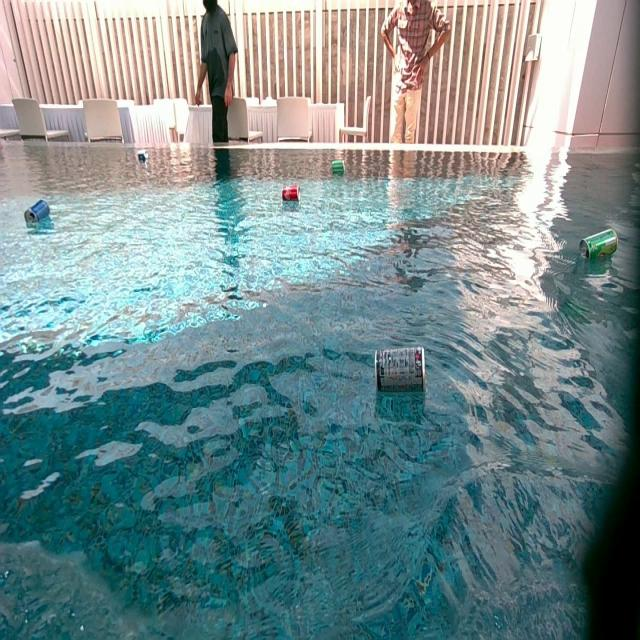Cans: (374, 343, 424, 396), (582, 228, 620, 262), (26, 199, 52, 224), (281, 185, 299, 202), (332, 160, 346, 176), (137, 151, 148, 161)
